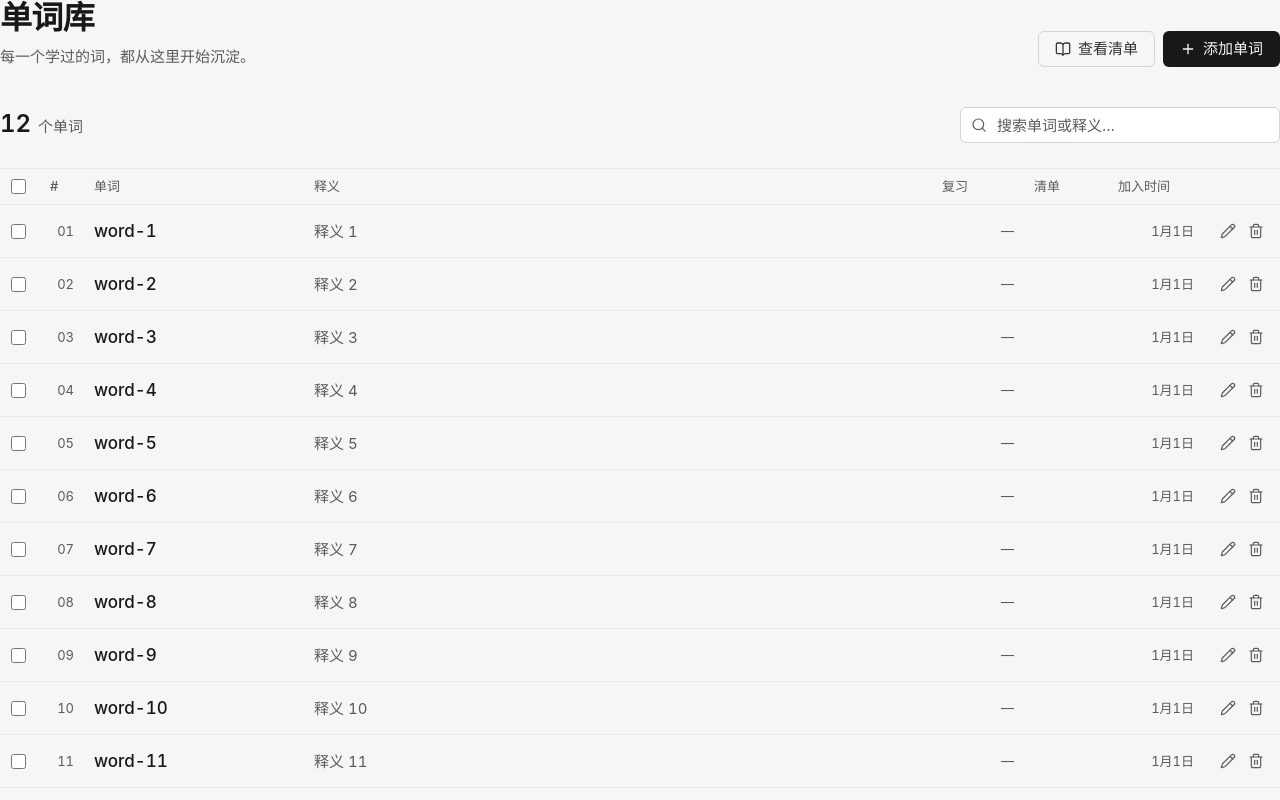
单词的新增与编辑对话框 › 重复单词报在「单词」字段，对话框保持打开
This screenshot has width=1280, height=800.
Click the button named "编辑 word-1". click: (1228, 231)
box: [1214, 216, 1242, 246]
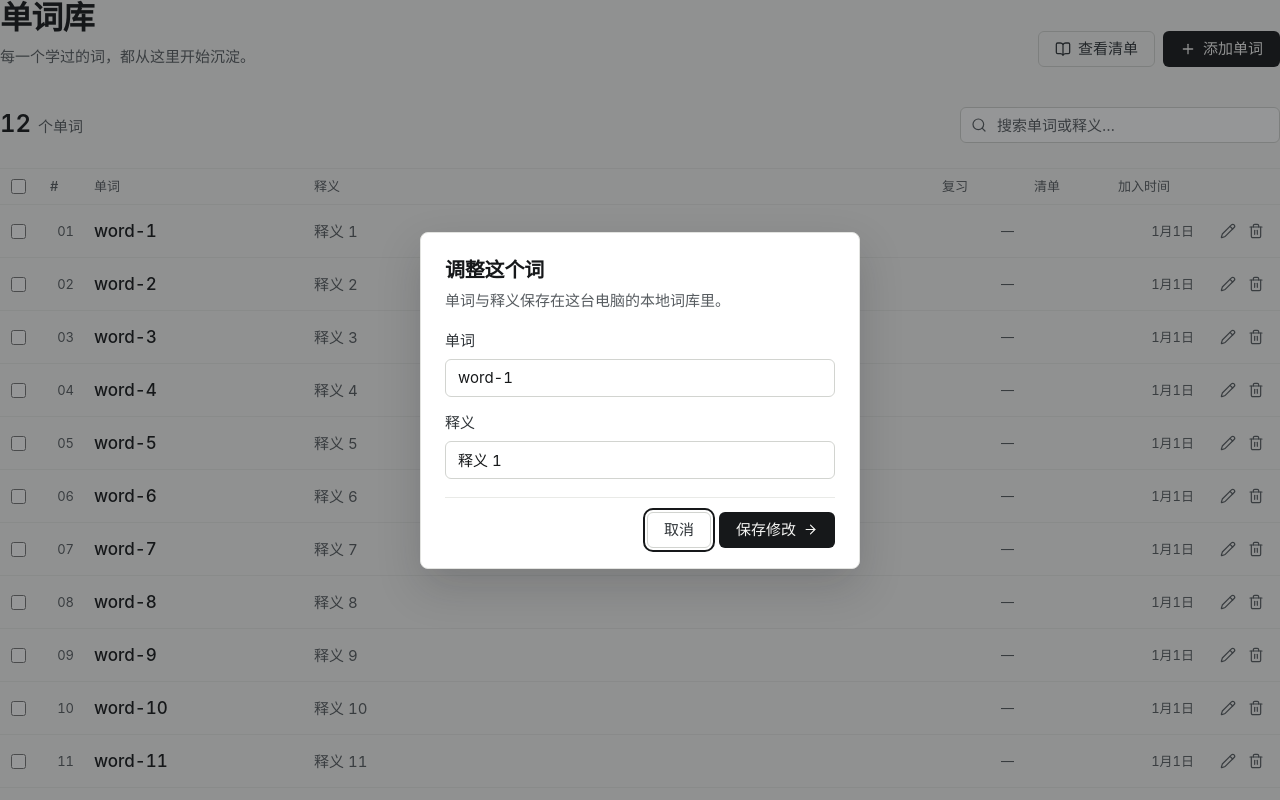
Replace the text in the field labelled "单词" with "word-2". click: (640, 378)
box: [445, 358, 835, 396]
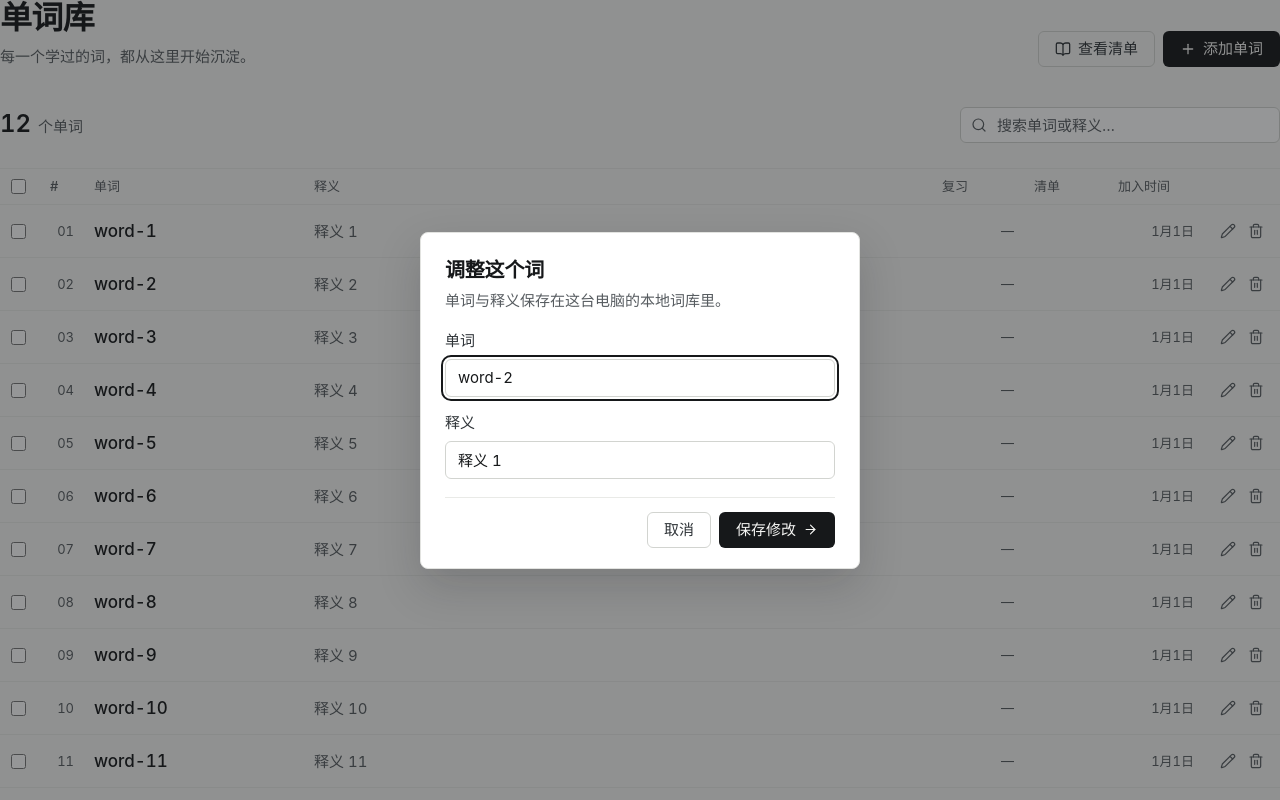
Click the button "保存修改". click: (777, 530)
box: [719, 512, 835, 548]
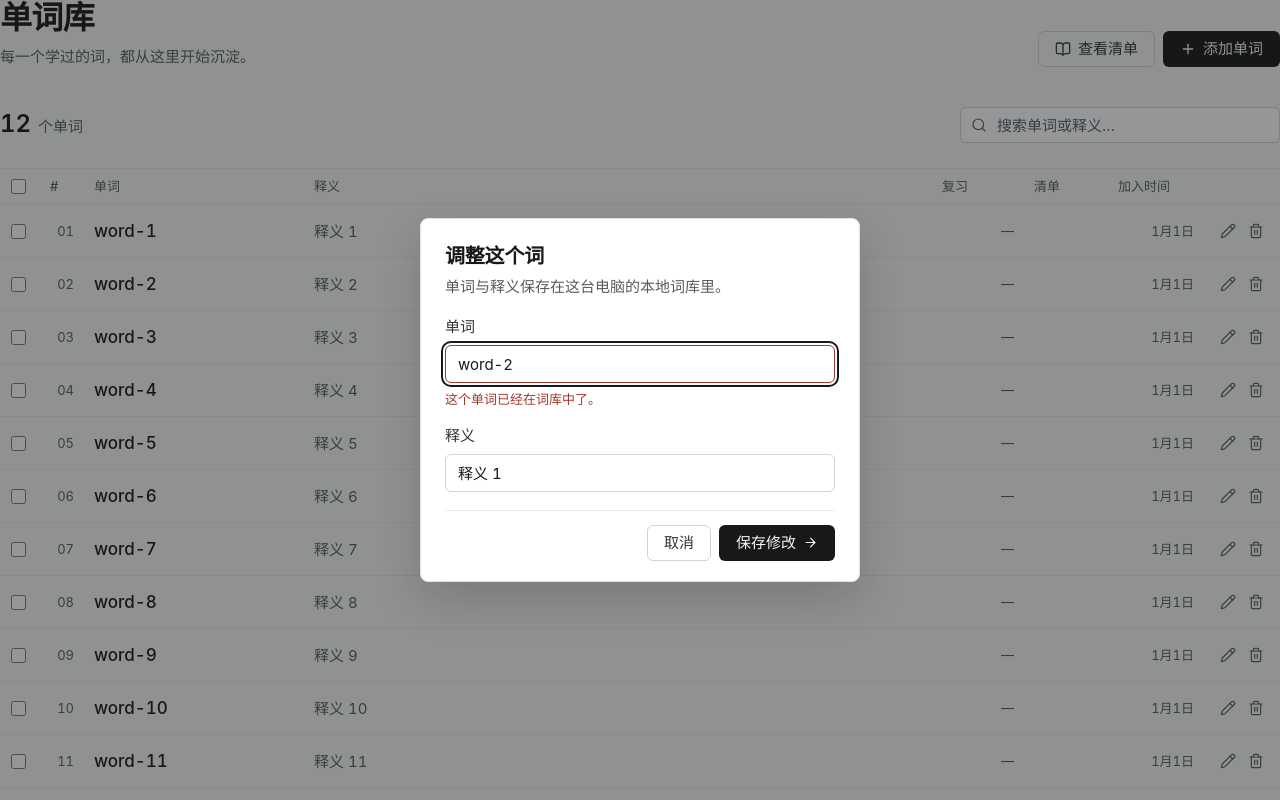
Expected: the dialog is shown, [420, 218, 860, 582]
Expected: the text "这个单词已经在词库中了。" is shown, [445, 391, 601, 407]
